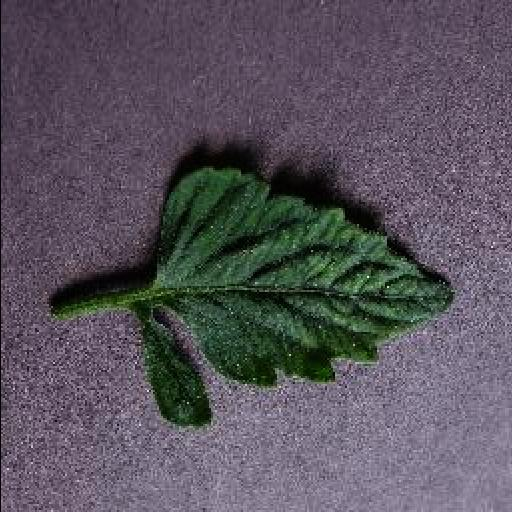Mosaic Virus: (138, 161, 456, 427)
